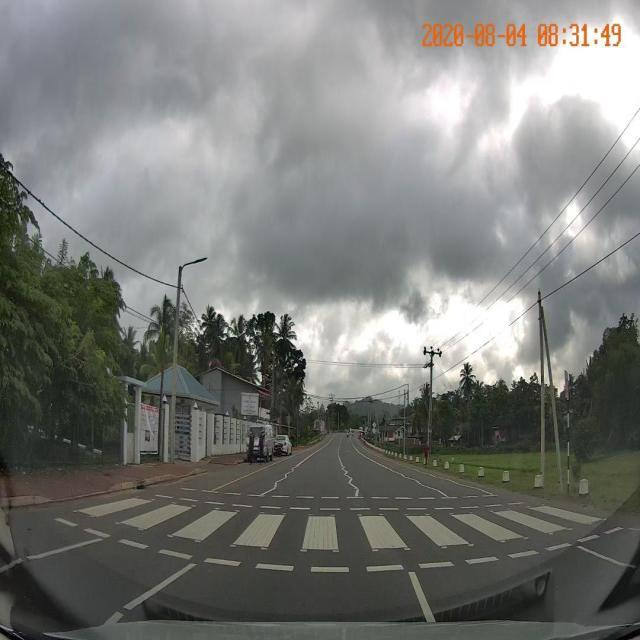Crosswalk: (44, 491, 634, 581)
